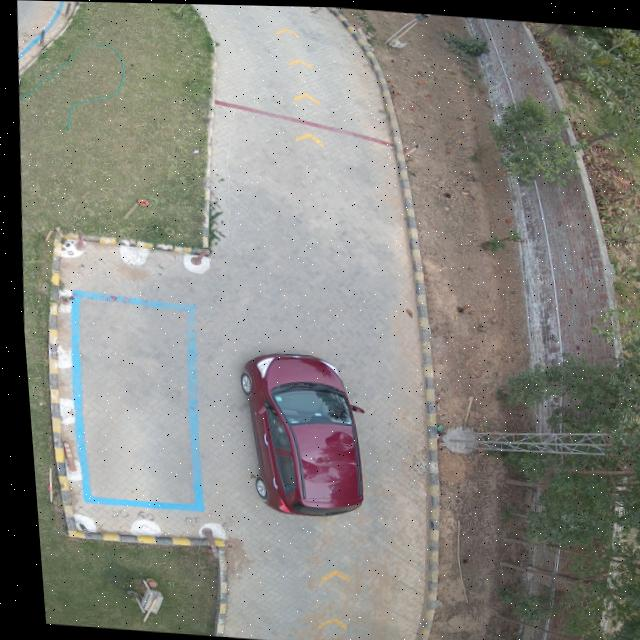car: (234, 352, 355, 515)
